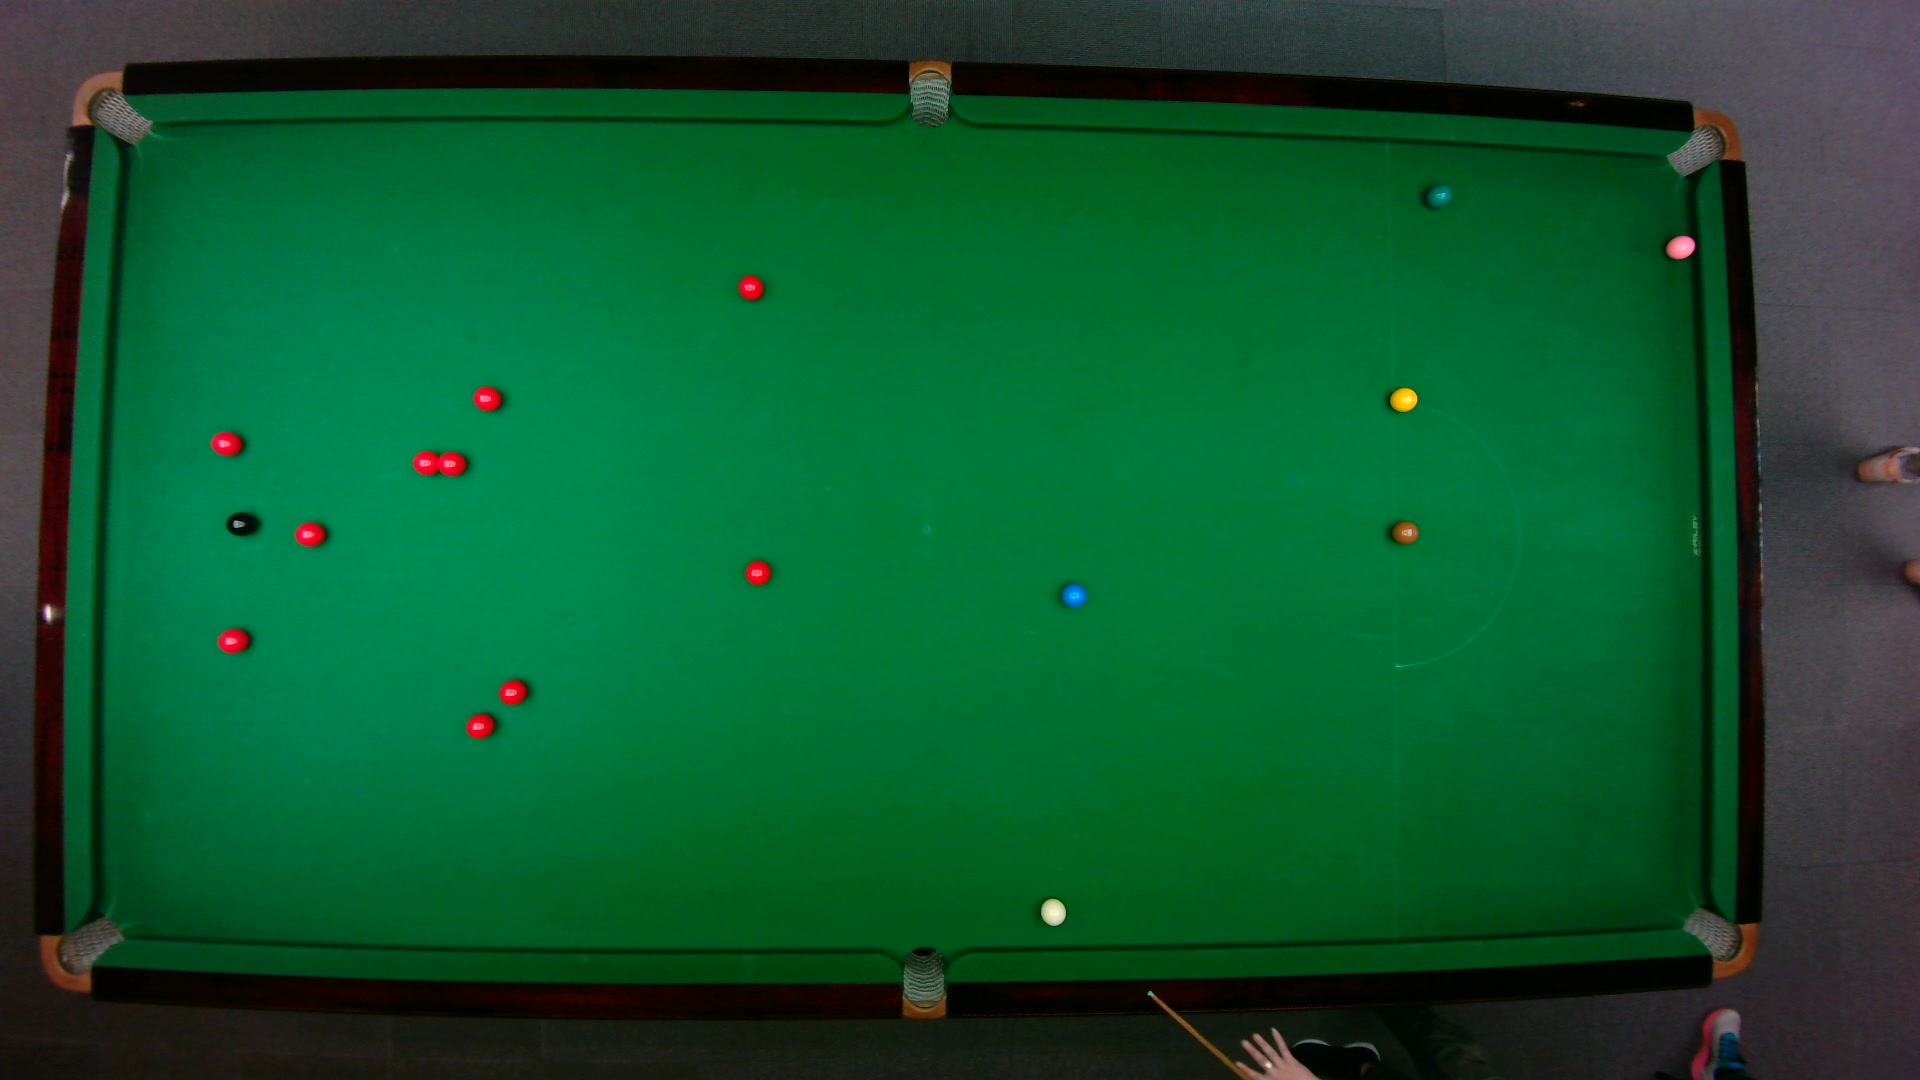bag: (38, 914, 125, 993), (69, 69, 152, 145), (1679, 905, 1756, 978), (1663, 107, 1741, 177), (901, 944, 944, 1021), (909, 57, 949, 128)
black: (222, 510, 256, 535)
blue: (1059, 582, 1087, 608)
brown: (1389, 520, 1419, 545)
green: (1422, 182, 1453, 208)
pink: (1663, 232, 1697, 260)
red: (208, 429, 244, 458), (462, 711, 496, 738), (291, 520, 326, 547), (215, 626, 251, 653), (496, 676, 527, 705), (435, 448, 467, 476), (471, 384, 502, 411), (410, 448, 442, 476), (736, 272, 764, 301), (742, 559, 771, 585)
white: (1038, 895, 1067, 926)
yellow: (1387, 385, 1419, 411)
zone: (1390, 401, 1519, 669)
